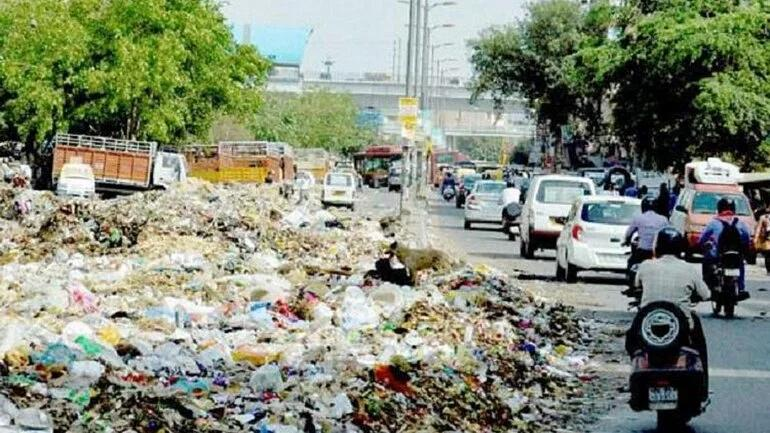garbage: (2, 162, 616, 432)
